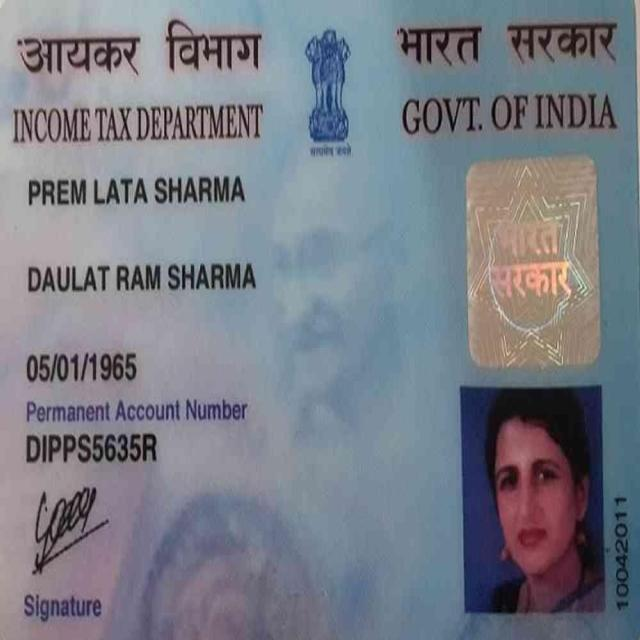pan_card: (0, 1, 639, 637)
